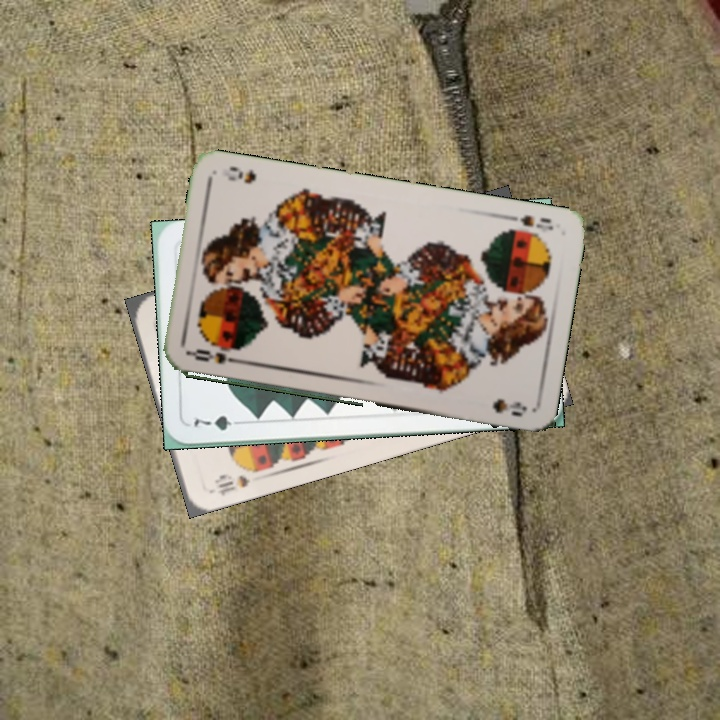G7: (190, 411, 247, 433)
S10: (210, 462, 263, 499)
SO: (186, 345, 245, 367), (502, 211, 556, 233)
